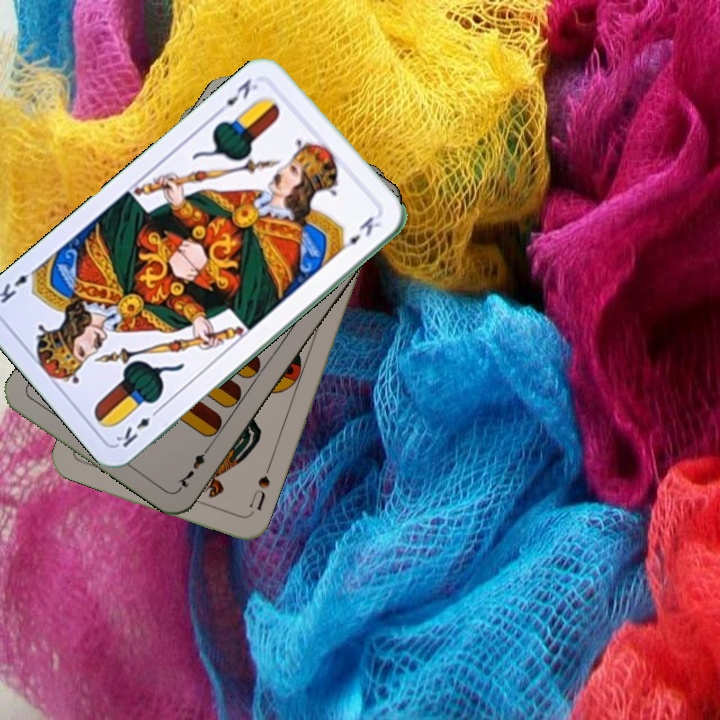E7: (173, 441, 214, 492)
EK: (111, 404, 163, 450), (212, 73, 265, 117)
SU: (242, 462, 273, 519)
